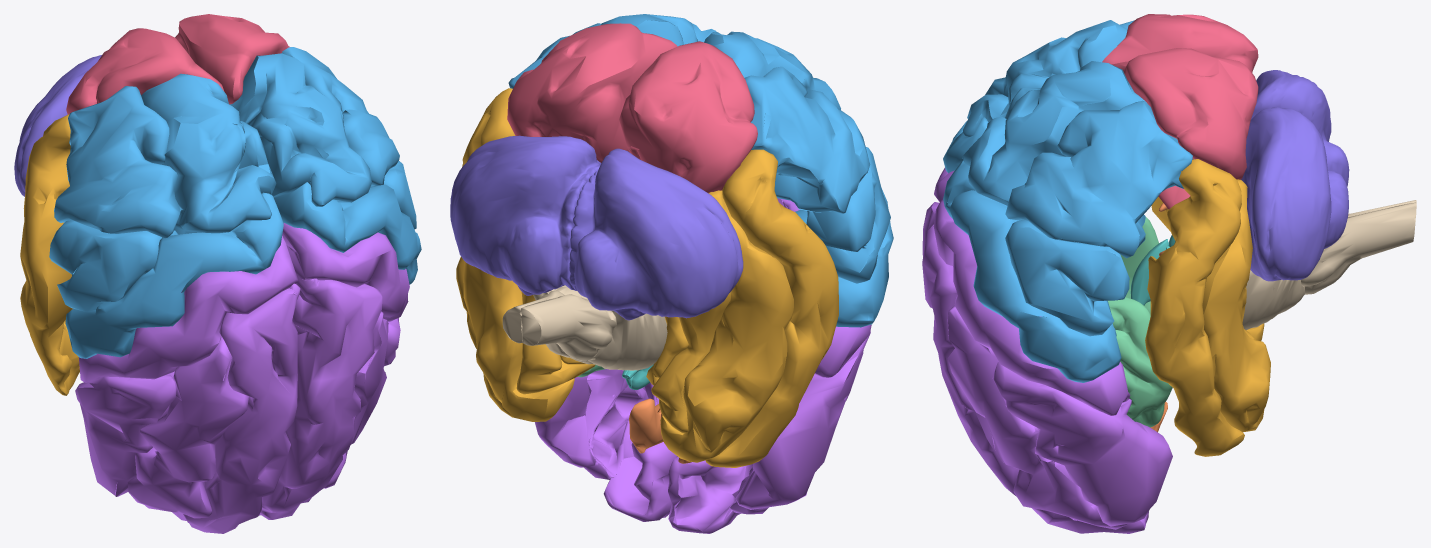
Rendered from cerebro.glb.
The picture shows the model from 3 angles, left to right: view 1: azimuth 30°, elevation 25°; view 2: azimuth 150°, elevation 25°; view 3: azimuth 270°, elevation 25°; orthographic projection. The views are drawn at different scales.
Visible parts, largest first — view 1: parietal, frontal, occipital, temporal, cerebelo; view 2: temporal, cerebelo, occipital, frontal, parietal, tronco, limbico; view 3: parietal, frontal, temporal, cerebelo, occipital, tronco, insula, diencefalo.
Part boxes in pixels (x1,y1,x2,y2): parietal: (49, 47, 421, 358); frontal: (75, 223, 409, 533); occipital: (66, 14, 289, 114); temporal: (20, 114, 79, 395); cerebelo: (14, 55, 101, 196); temporal: (456, 88, 838, 467); cerebelo: (450, 135, 743, 320); occipital: (507, 23, 757, 193); frontal: (535, 198, 871, 533); parietal: (508, 14, 893, 327); tronco: (502, 285, 667, 370); limbico: (629, 398, 691, 463); parietal: (943, 20, 1193, 382); frontal: (922, 168, 1172, 533); temporal: (1145, 159, 1270, 456); cerebelo: (1241, 70, 1349, 281); occipital: (1102, 14, 1258, 209); tronco: (1242, 200, 1416, 330); insula: (1108, 217, 1172, 427); diencefalo: (1130, 235, 1175, 305).
Size of the model in its own units: 139 by 180 by 166.
